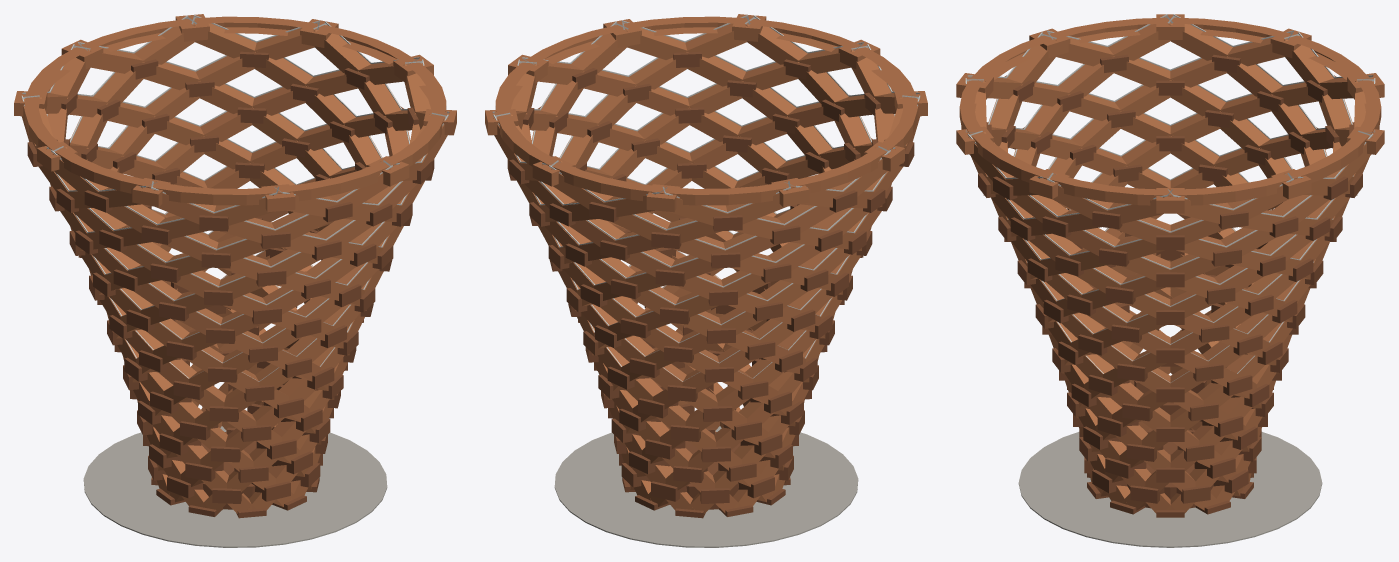
File: vessel.glb
The picture shows the model from 3 angles, left to right: view 1: azimuth 30°, elevation 25°; view 2: azimuth 150°, elevation 25°; view 3: azimuth 270°, elevation 25°; orthographic projection.
Visible parts, largest first — view 1: vessel; view 2: vessel; view 3: vessel.
Boxes of the visible parts, x1=… form: vessel: x1=14, y1=14, x2=456, y2=547; vessel: x1=485, y1=14, x2=927, y2=547; vessel: x1=956, y1=14, x2=1384, y2=547.
Size of the model in its own units: 49.4 by 47.66 by 47.97.
1 material, 1 textured.
